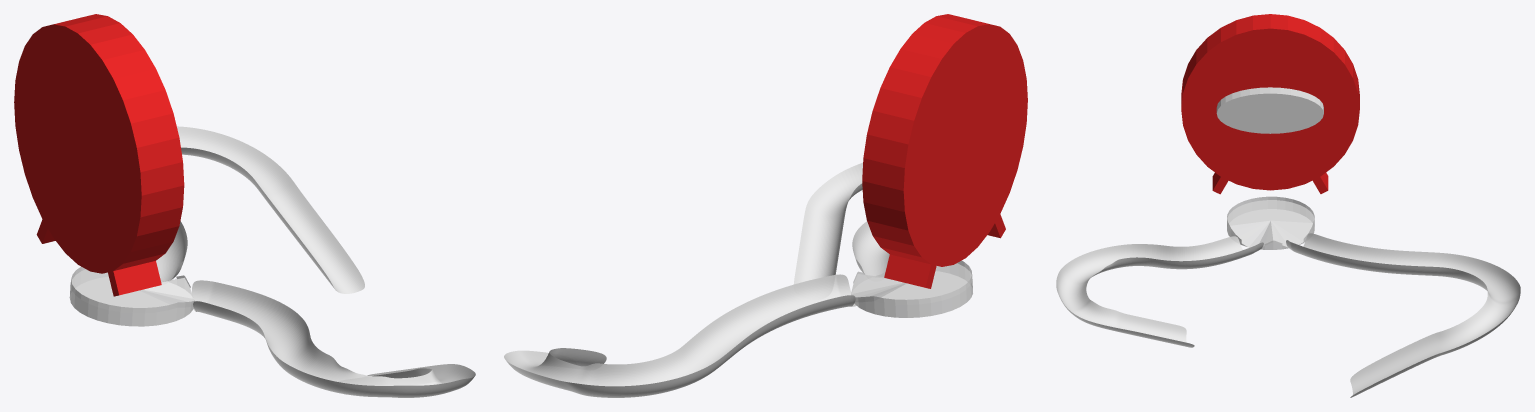
File: start.fbx
3 views of the same model, side by side, from view 1: azimuth 30°, elevation 25°; view 2: azimuth 150°, elevation 25°; view 3: azimuth 270°, elevation 25° (orthographic). The views are drawn at different scales.
Parts seen in each view (by area): view 1: スタート, パイプ左, パイプ右, クルーン; view 2: スタート, パイプ右, パイプ左, クルーン; view 3: スタート, パイプ右, パイプ左, クルーン.
Boxes of the visible parts, left/top/right/bottom form: スタート: left=14, top=14, right=184, bottom=296; パイプ左: left=192, top=280, right=475, bottom=397; パイプ右: left=156, top=126, right=364, bottom=293; クルーン: left=69, top=266, right=194, bottom=326; スタート: left=862, top=14, right=1027, bottom=288; パイプ右: left=504, top=274, right=856, bottom=397; パイプ左: left=793, top=162, right=889, bottom=284; クルーン: left=851, top=260, right=972, bottom=317; スタート: left=1181, top=14, right=1359, bottom=194; パイプ右: left=1286, top=233, right=1520, bottom=397; パイプ左: left=1056, top=236, right=1263, bottom=347; クルーン: left=1227, top=196, right=1314, bottom=249.
Bounding box in the file's own units: 222 × 236 × 370.
